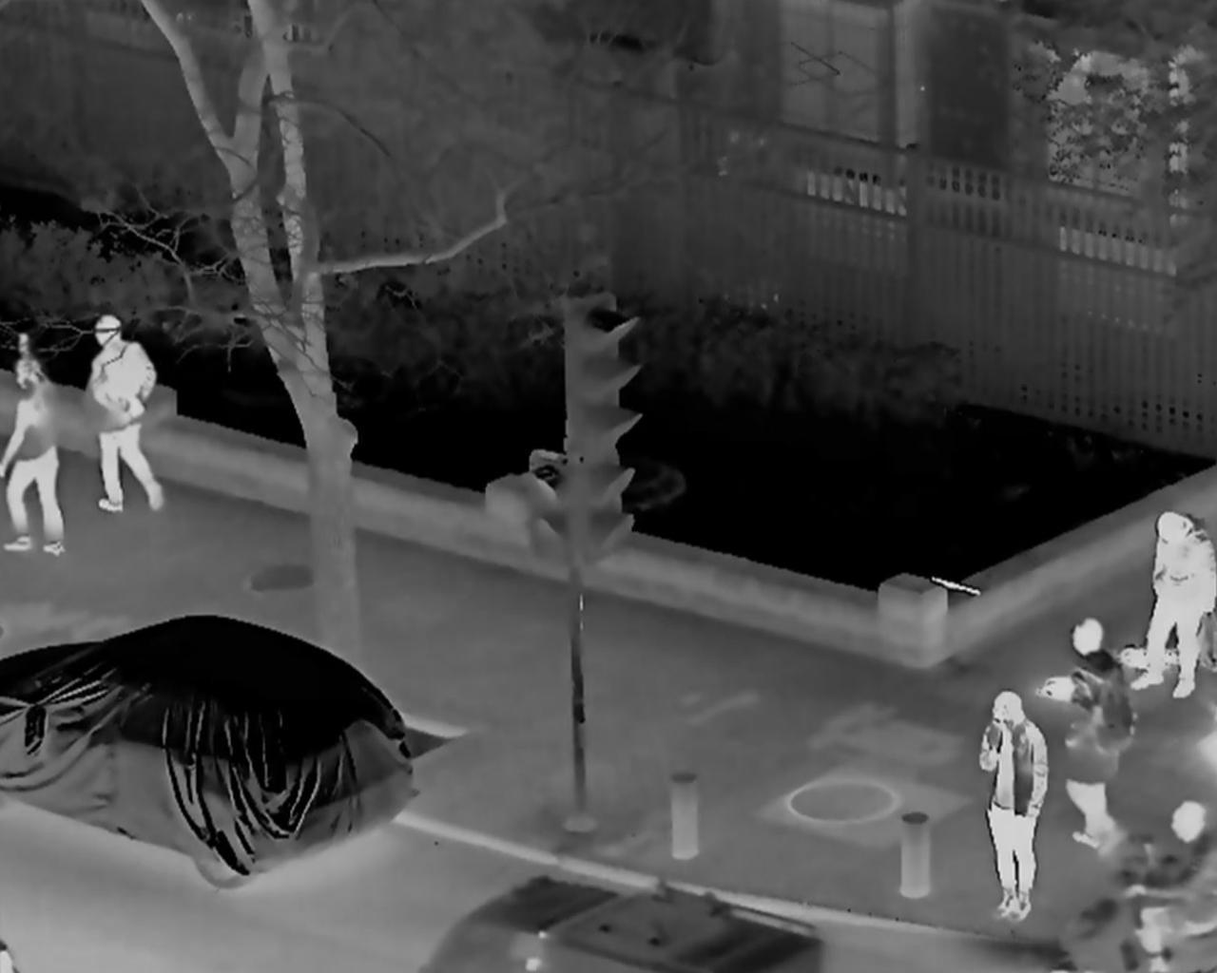person: (1047, 620, 1137, 854), (1132, 513, 1217, 705), (86, 319, 168, 513), (980, 690, 1047, 925), (3, 354, 72, 558), (1143, 798, 1217, 963)
